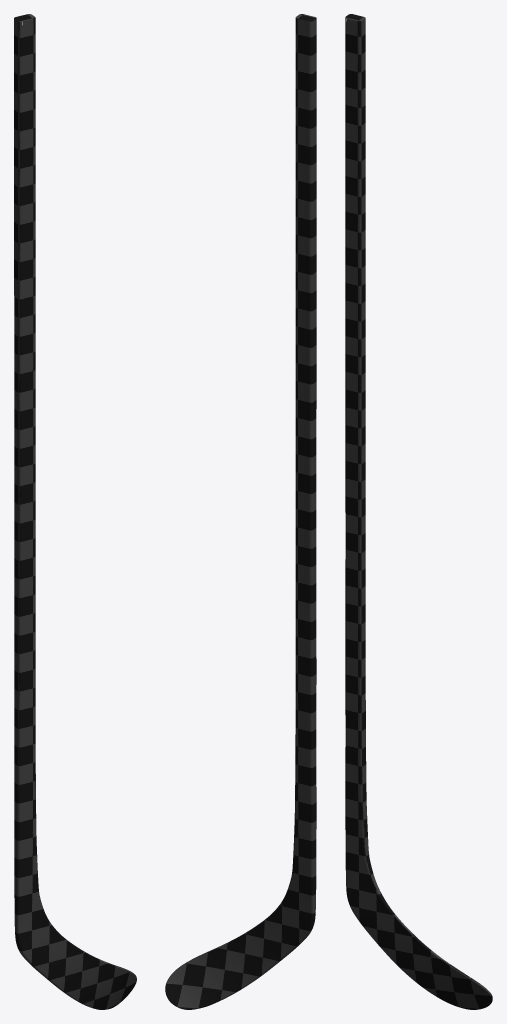
3 views of the same model, side by side, from view 1: azimuth 30°, elevation 25°; view 2: azimuth 150°, elevation 25°; view 3: azimuth 330°, elevation 25° (orthographic). The views are drawn at different scales.
Visible parts, largest first — view 1: geometry_0; view 2: geometry_0; view 3: geometry_0.
Boxes of the visible parts, box(x1,y1,x2,y2) form: geometry_0: box(14, 14, 136, 1009); geometry_0: box(165, 14, 316, 1009); geometry_0: box(345, 14, 492, 1009).
Bounding box in the file's own units: 229 × 1650 × 65.76.
1 material, 1 textured.
